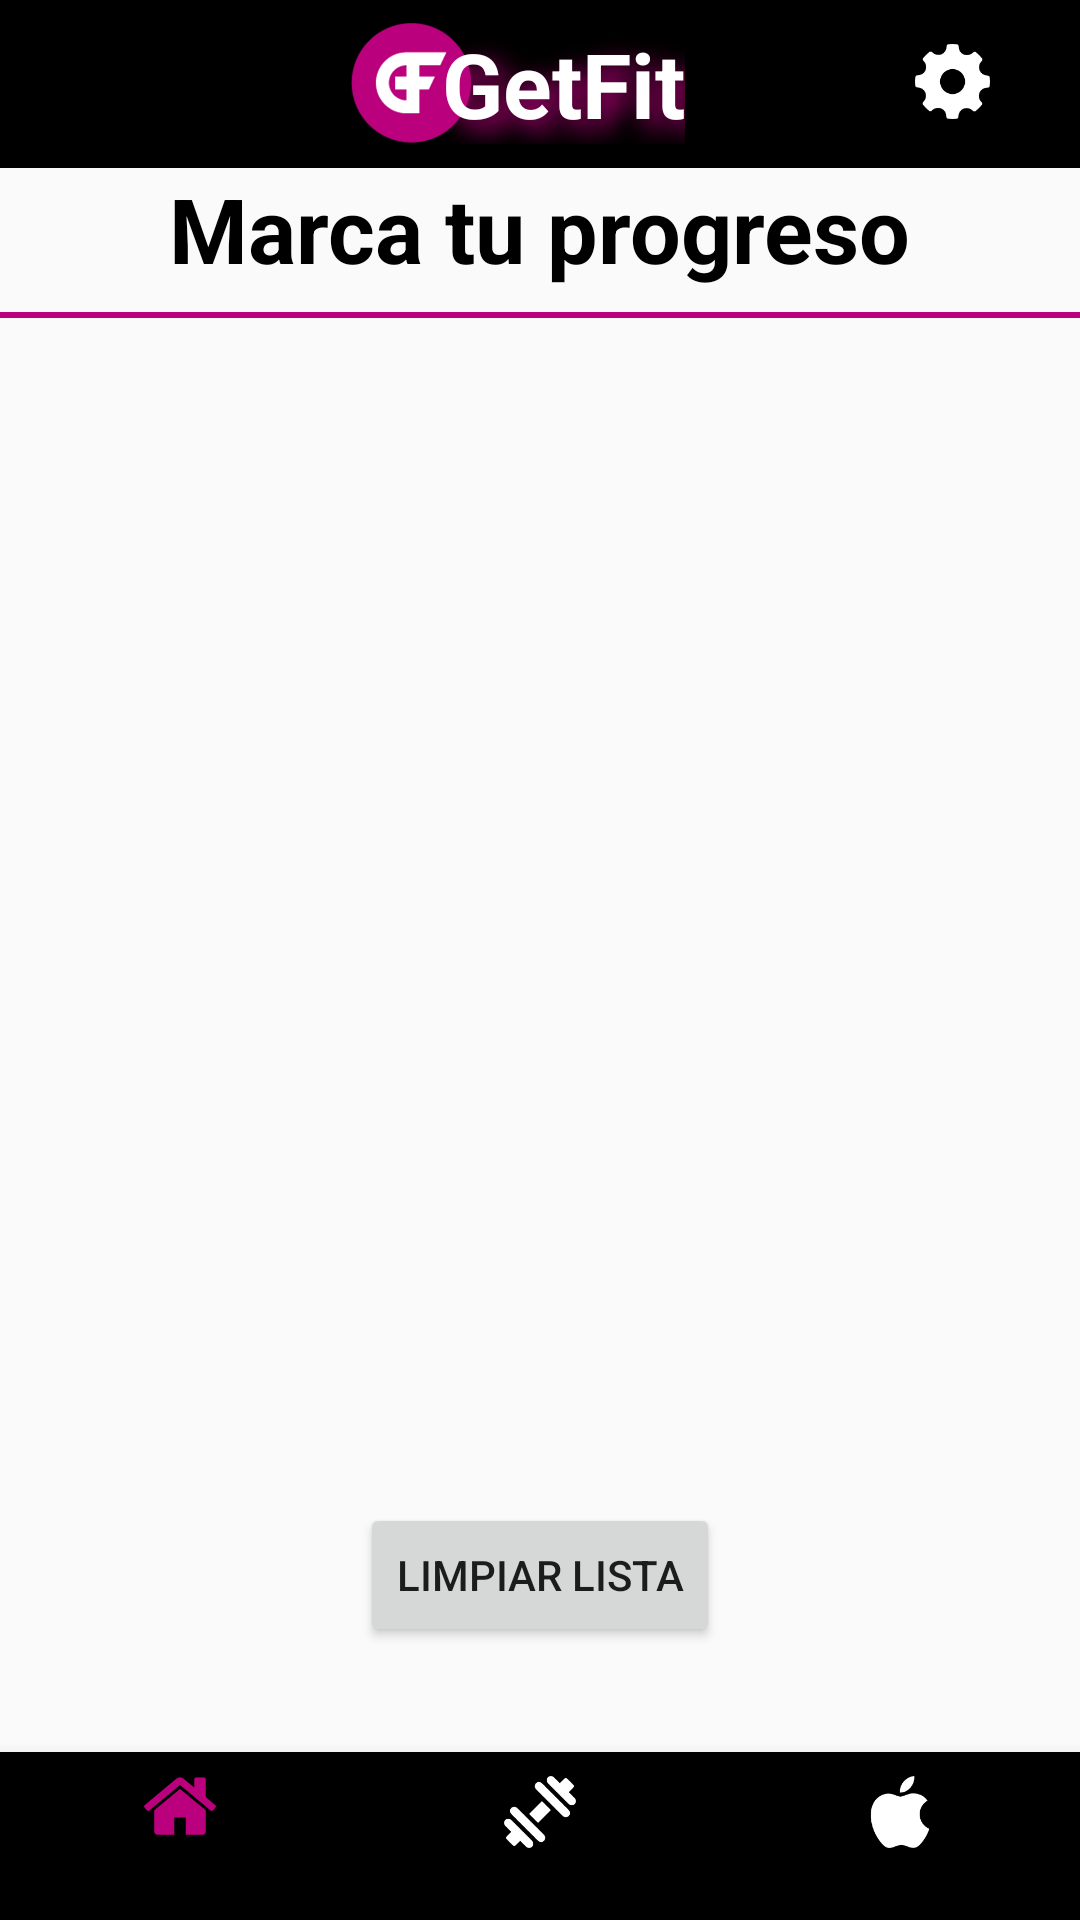

Icon bounding boxes for this 1080px×1920px phone screenshot, format box(x1, y1, x2, y2):
ajustes: box(915, 44, 990, 119)
